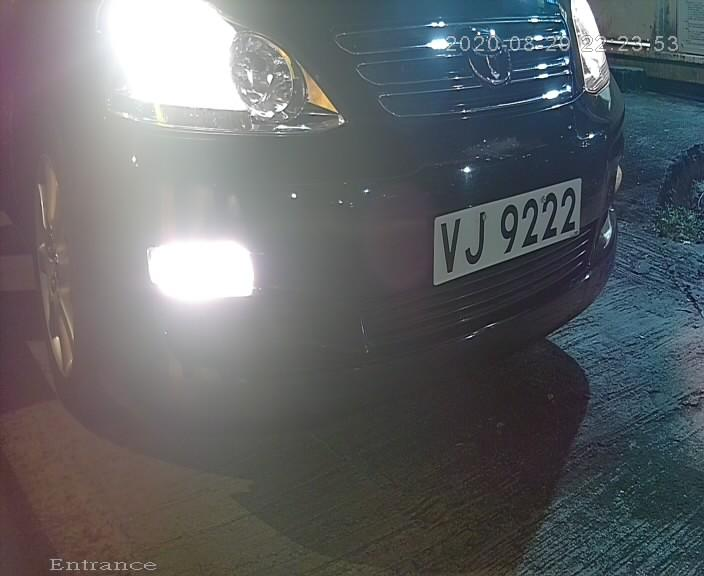License Plate: (425, 170, 585, 286)
